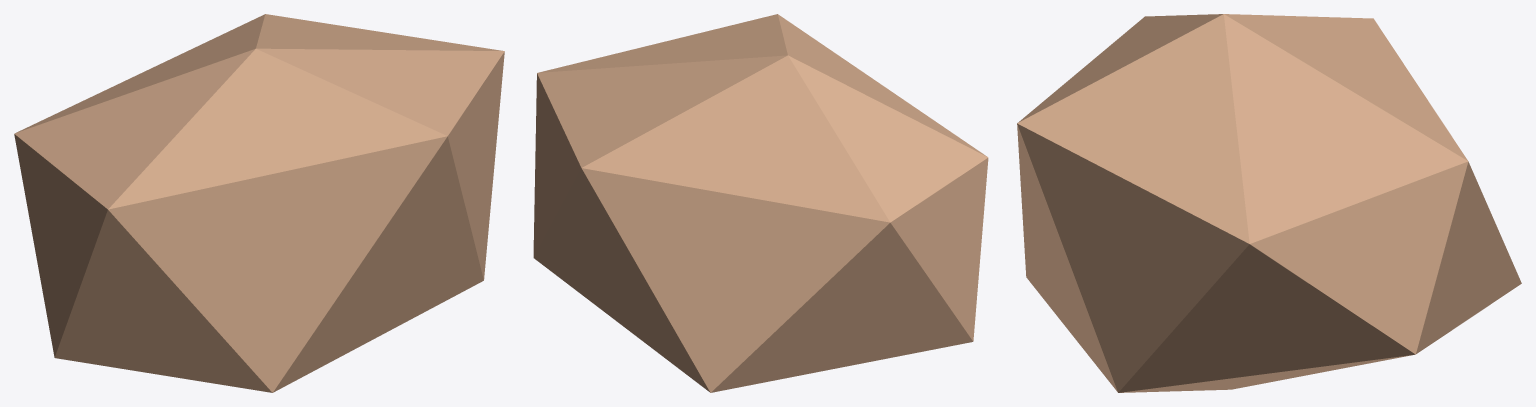
Rendered from SM_Rock_Boulder.glb.
3 renders of one model, left to right at view 1: azimuth 30°, elevation 25°; view 2: azimuth 150°, elevation 25°; view 3: azimuth 270°, elevation 25°, orthographic. The views are drawn at different scales.
Visible parts, largest first — view 1: SM_Rock_Boulder; view 2: SM_Rock_Boulder; view 3: SM_Rock_Boulder.
Boxes of the visible parts, bbox=[...] form: SM_Rock_Boulder: bbox=[14, 14, 504, 392]; SM_Rock_Boulder: bbox=[533, 14, 988, 392]; SM_Rock_Boulder: bbox=[1017, 14, 1521, 392].
Bounding box in the file's own units: 1.77 × 1.17 × 1.46.
